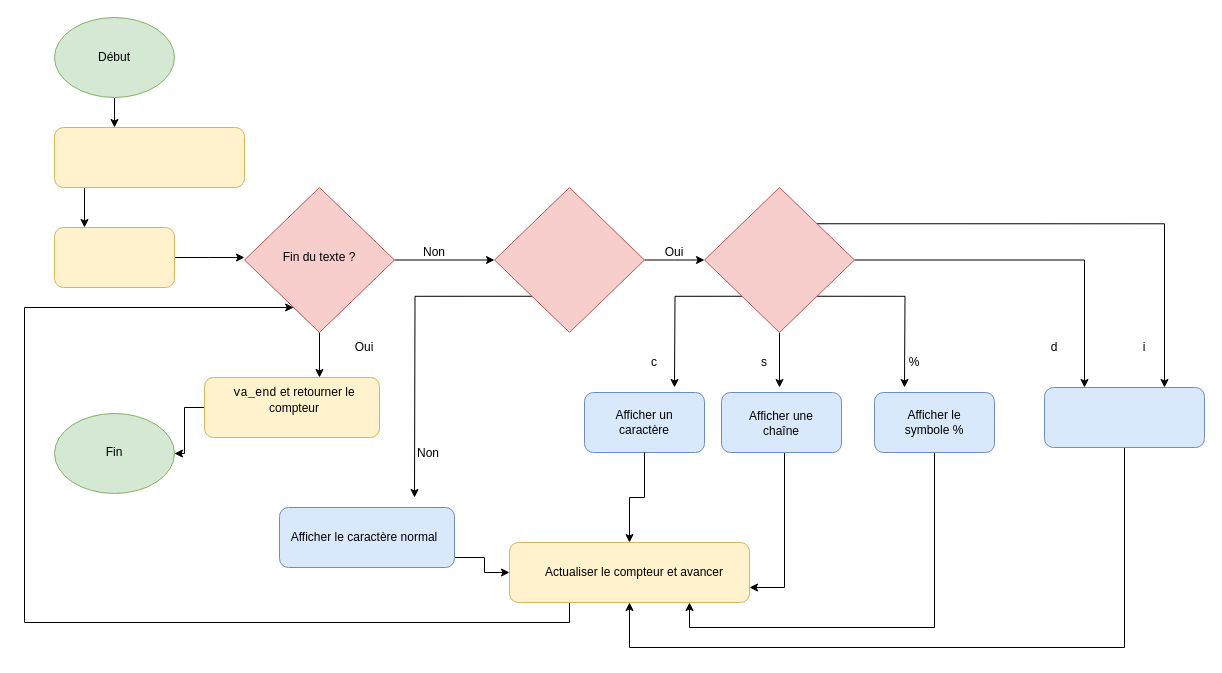
The diagram is 1222 pixels wide and 673 high, and some of its shapes have lost their labels. The shapes that lost their labels are listed below. From the top down, each one's centre as x and y in pixels, then its label:
the point at 149,157: Recevoir le texte et les arguments
the point at 114,257: Initialiser le compteur à 0
the point at 569,259: Symbole % ?
the point at 779,259: Quel format ?
the point at 1124,417: Afficher un nombre entier
